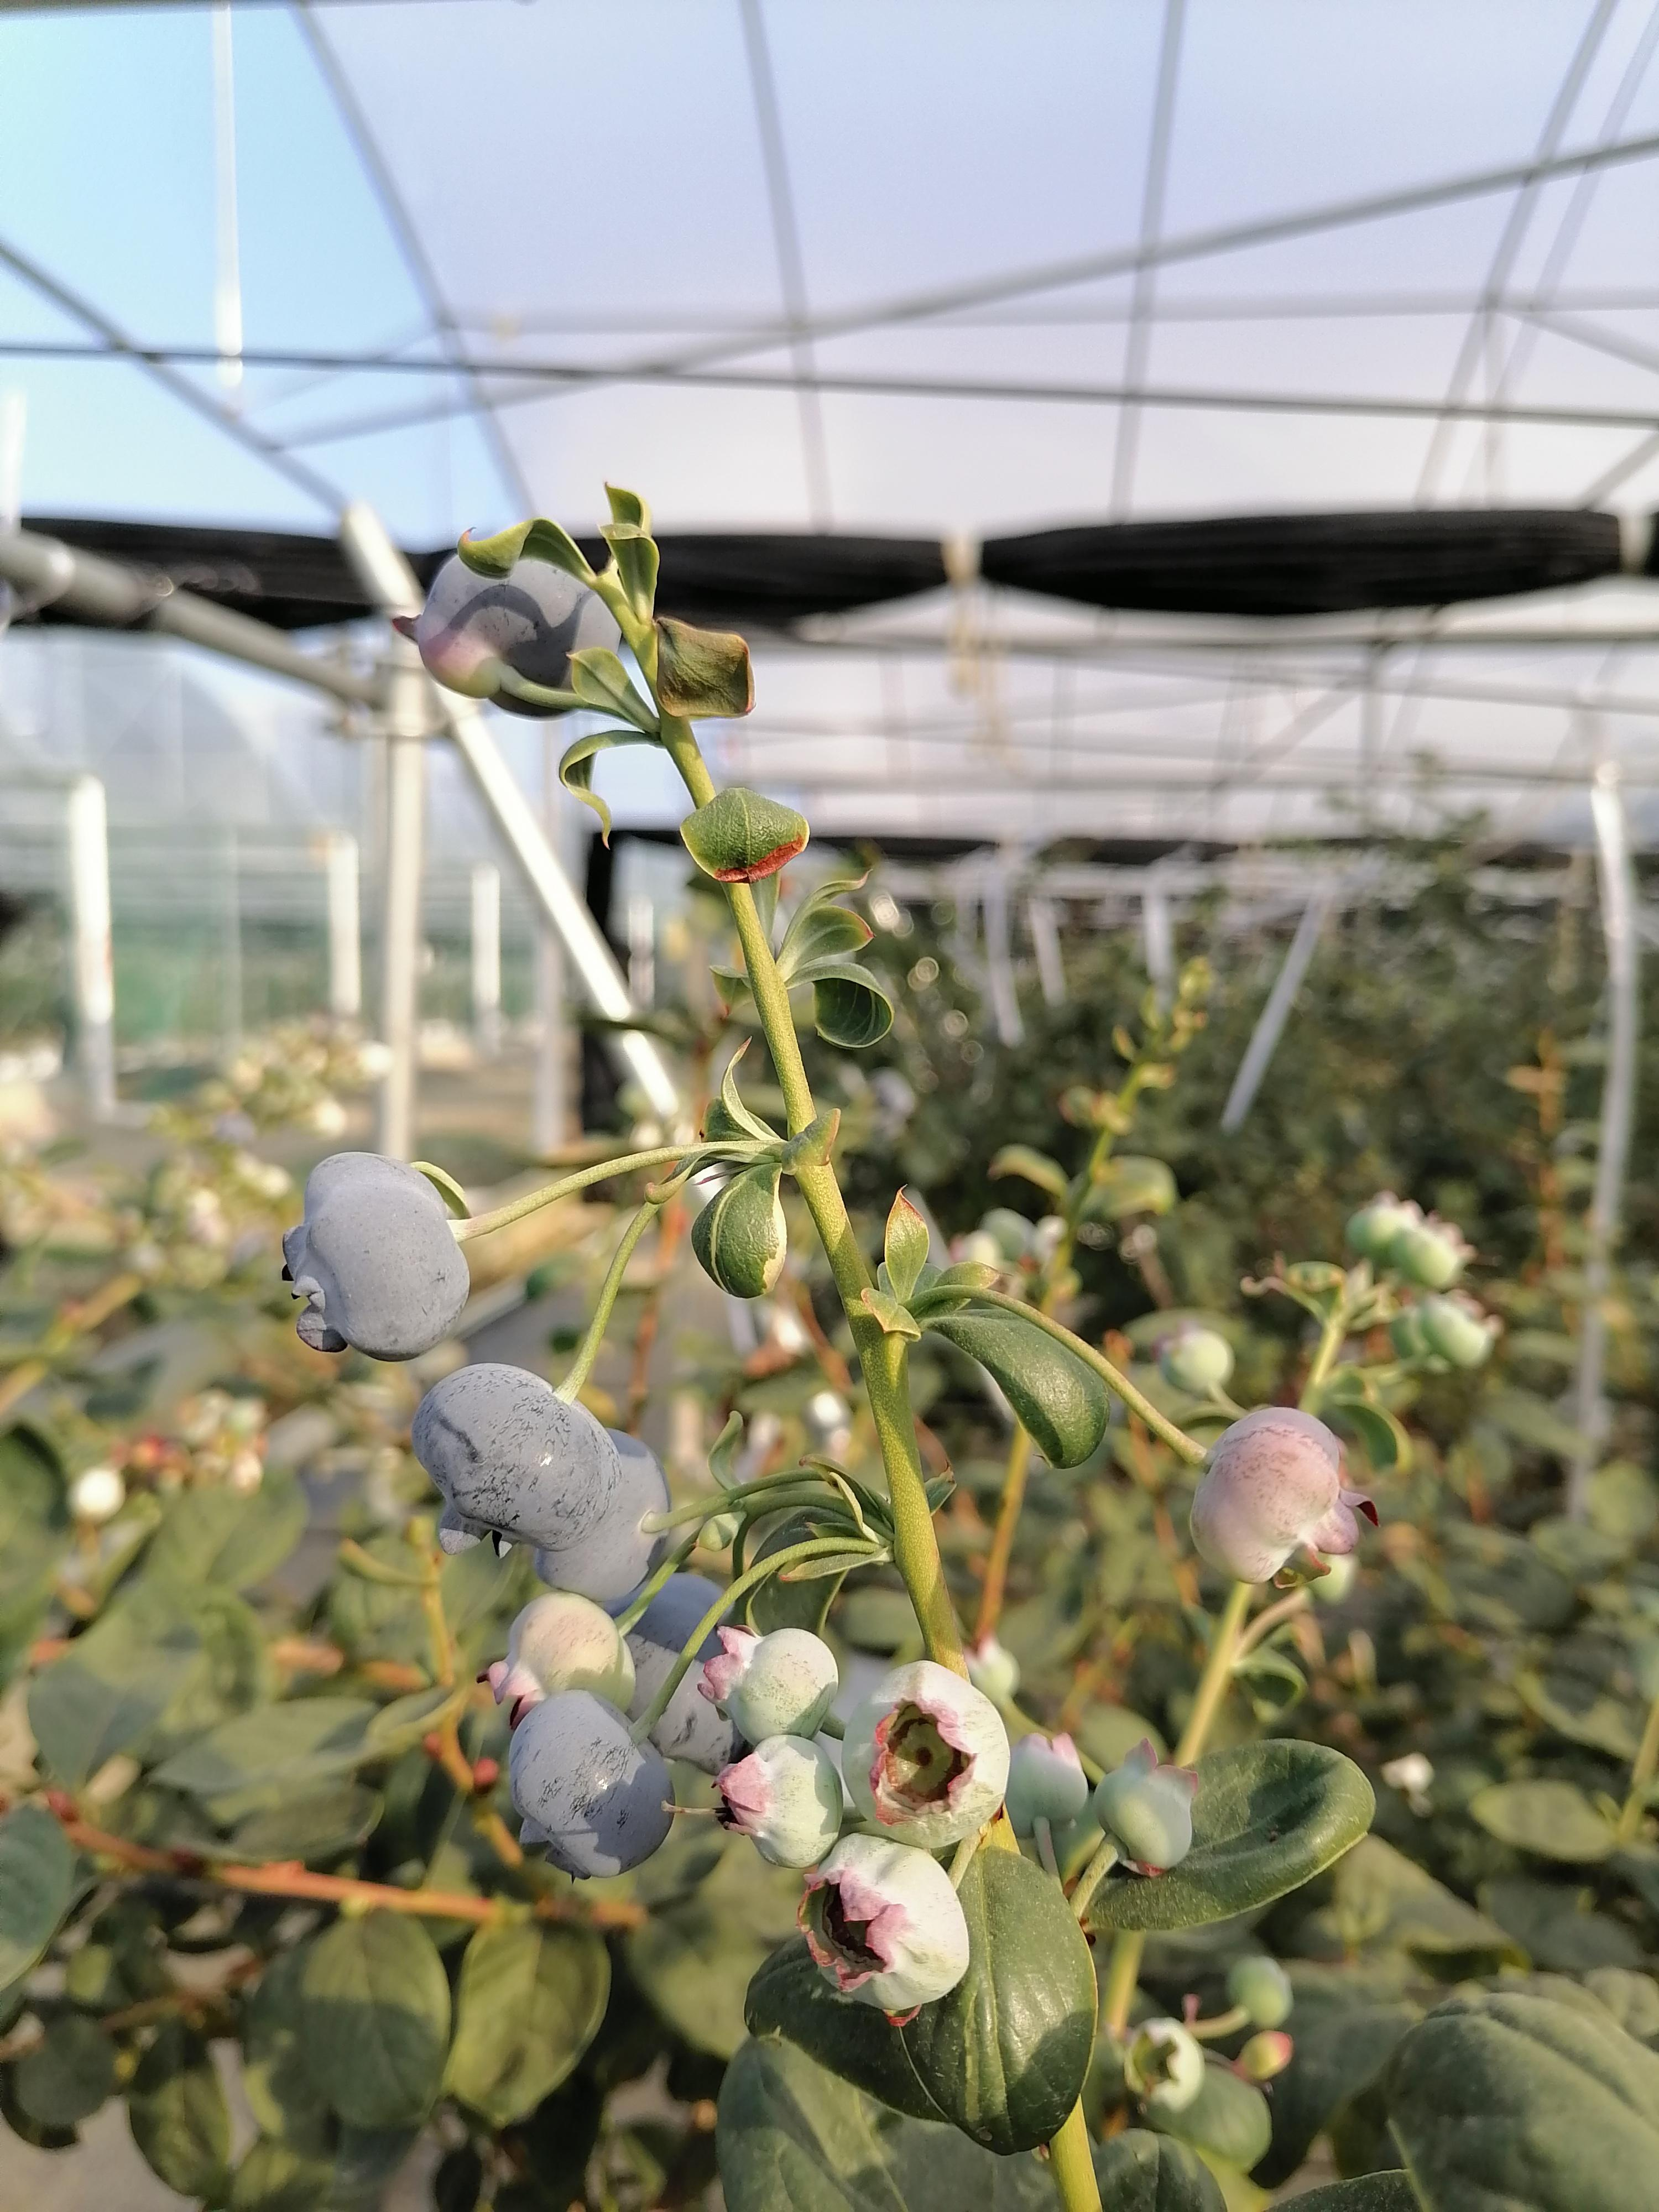ripe-blueberries: (408, 1359, 620, 1566), (279, 1148, 471, 1366), (415, 540, 624, 719), (507, 1689, 678, 1879), (535, 1428, 674, 1602)
